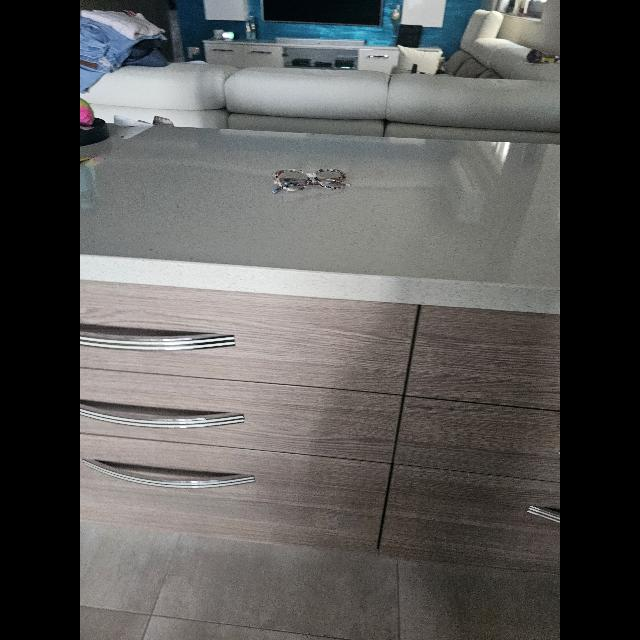glasses: (272, 168, 352, 194)
